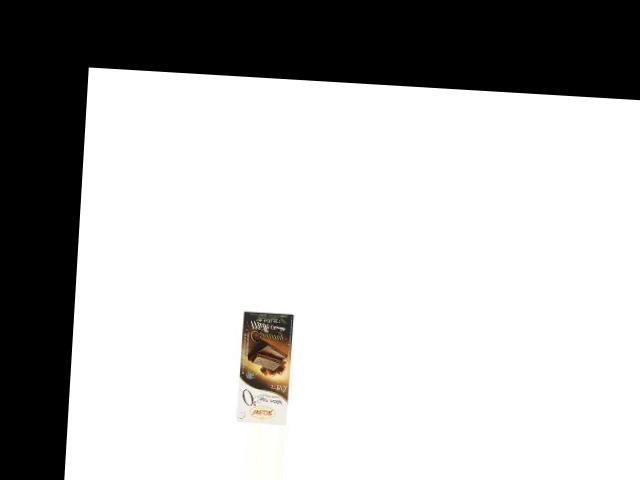chocolate: (233, 310, 295, 425)
